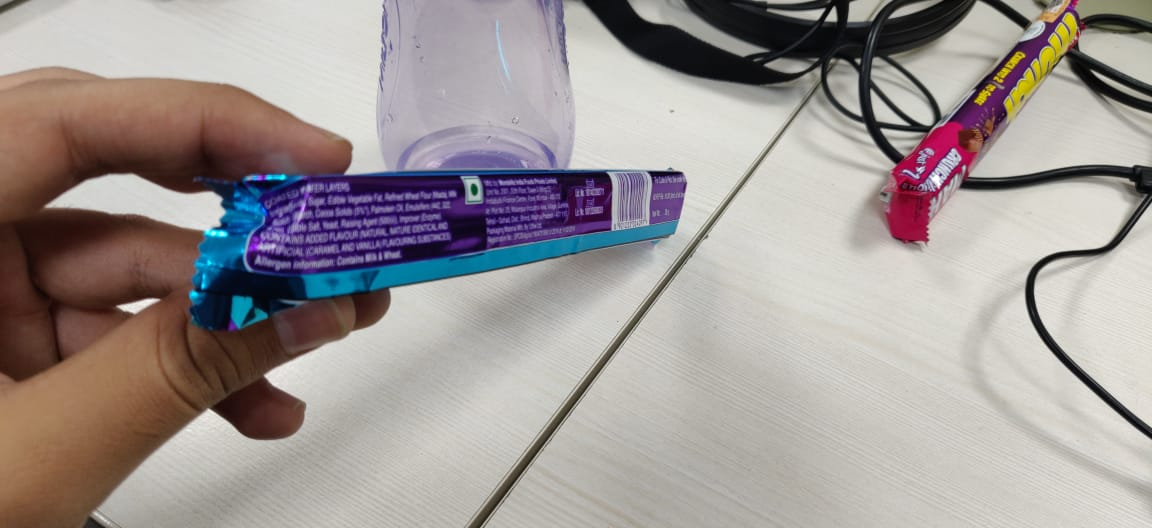perk: (188, 154, 706, 337)
